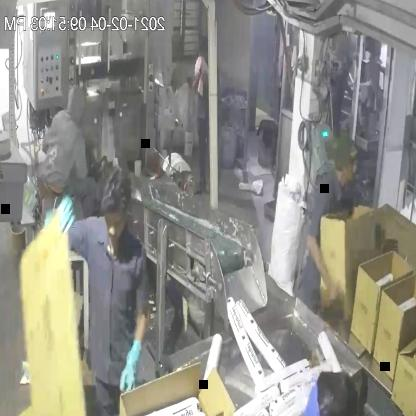glove: (115, 321, 149, 395), (48, 188, 77, 238)
no_glove: (308, 208, 338, 315)
